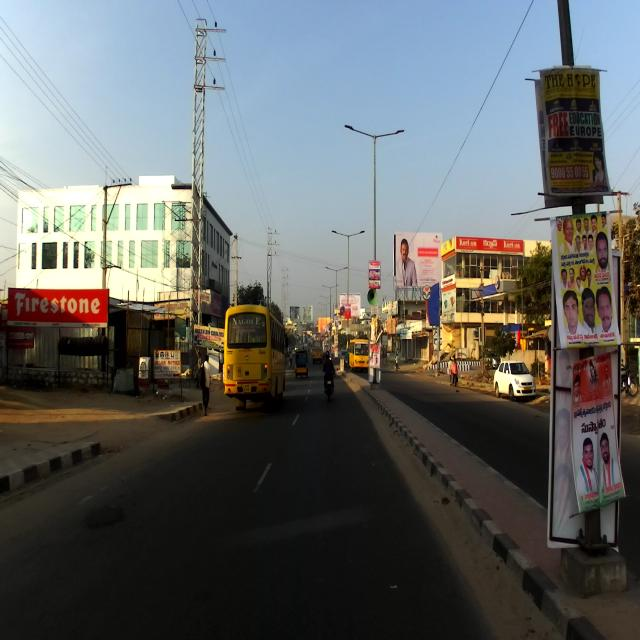bus ahead at: (225, 303, 289, 404)
